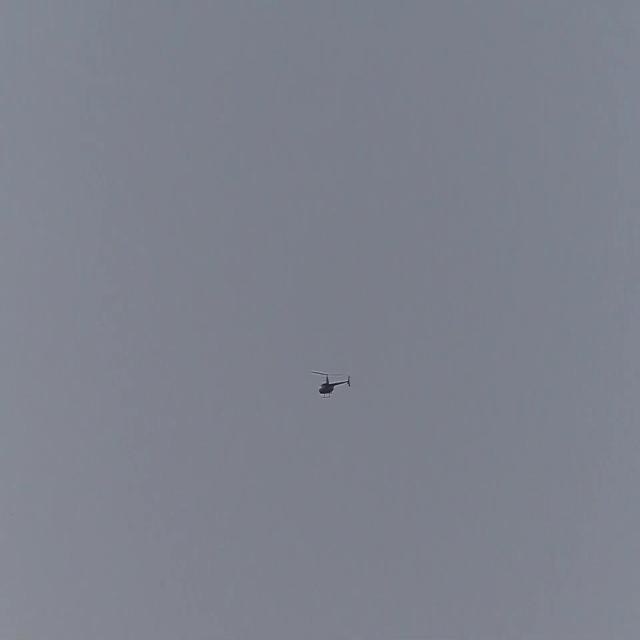CIV_HELO: (318, 372, 351, 400)
